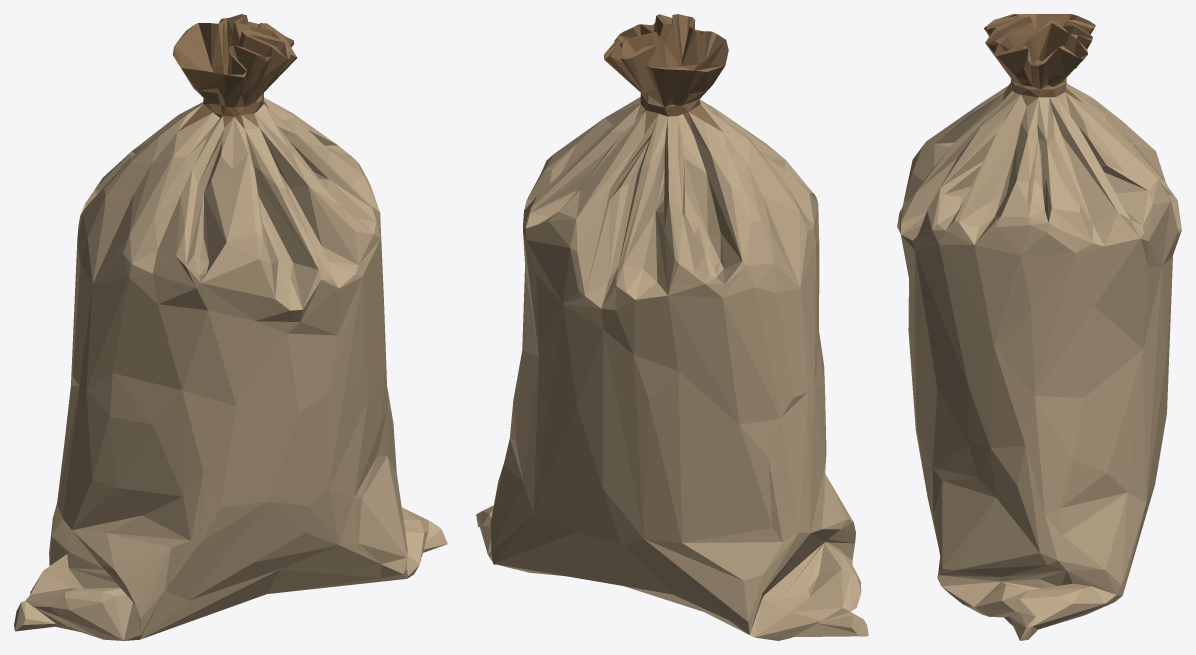
File: S12_rice_sack_a.glb
3 renders of one model, left to right at view 1: azimuth 30°, elevation 25°; view 2: azimuth 150°, elevation 25°; view 3: azimuth 270°, elevation 25°, orthographic. The views are drawn at different scales.
Parts seen in each view (by area): view 1: Mesh_0; view 2: Mesh_0; view 3: Mesh_0.
Part boxes in pixels (x1=…): Mesh_0: x1=14, y1=14, x2=447, y2=640; Mesh_0: x1=476, y1=14, x2=868, y2=640; Mesh_0: x1=897, y1=14, x2=1181, y2=640.
Size of the model in its own units: 0.4258 by 0.55 by 0.2666.
